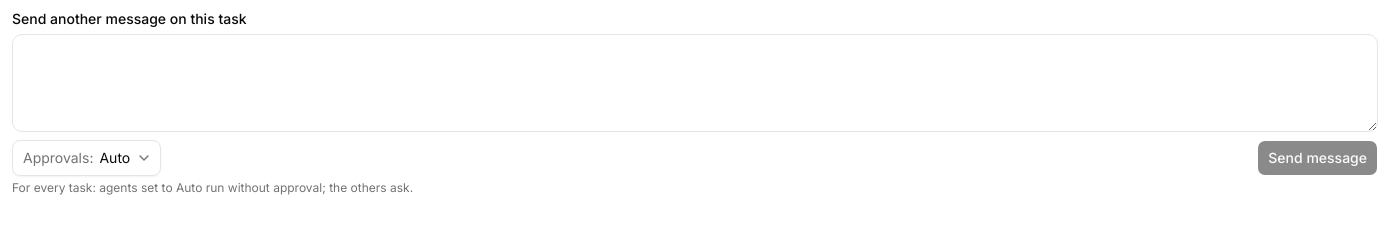
Test: the follow-up box › shows the service's reason for a refusal and keeps the text
Type "Far too long." into the text box labelled "Send another message on this task" at (695, 83), box [12,34,1378,132]
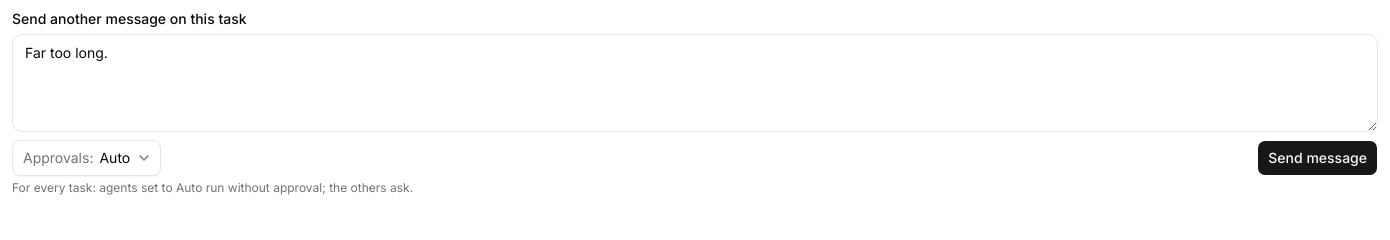
Click the button "Send message" at (1318, 158), box [1257,140,1378,176]
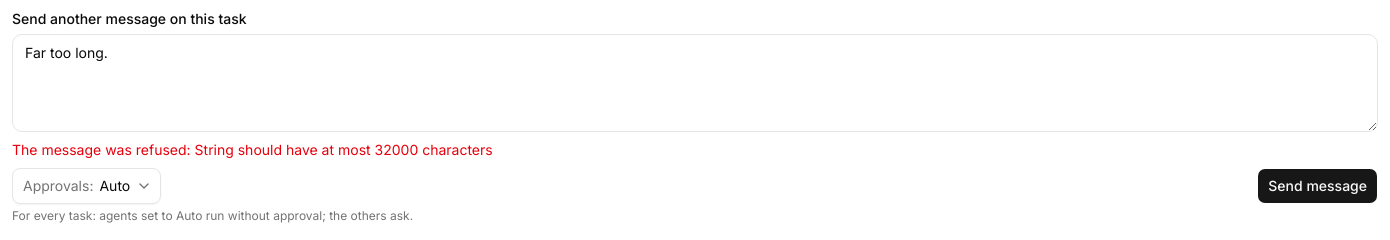
Result: the message shows "String should have at most 32000 characters" at [12,141,493,158]
